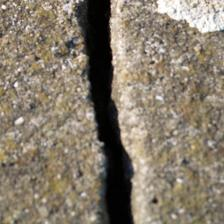Crack: (66, 5, 148, 224)
